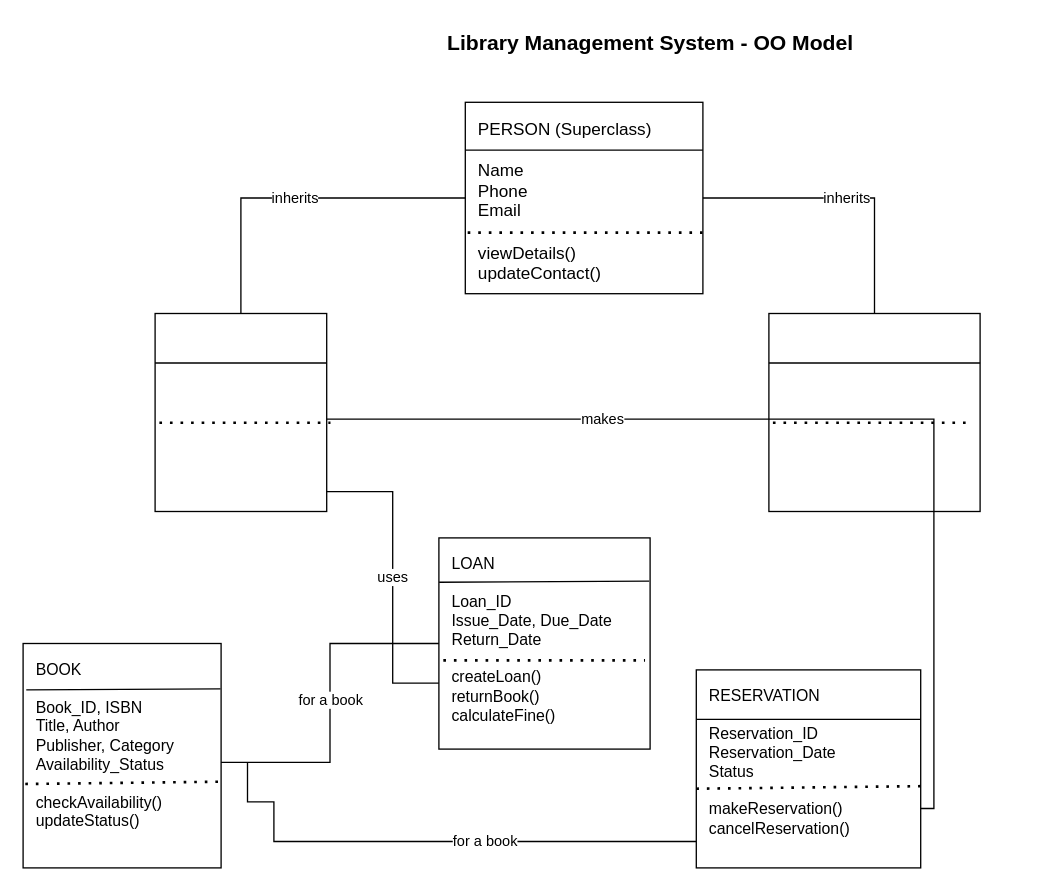
This 1049x891 diagram has some shape labels left out. The centre of each missing label's shape, as x and y in pixels:
MEMBER Member_ID Address borrowBook() returnBook() reserveBook(): (240,412)
STAFF Staff_ID Designation issueBook() manageBooks() assistMember(): (874,412)
